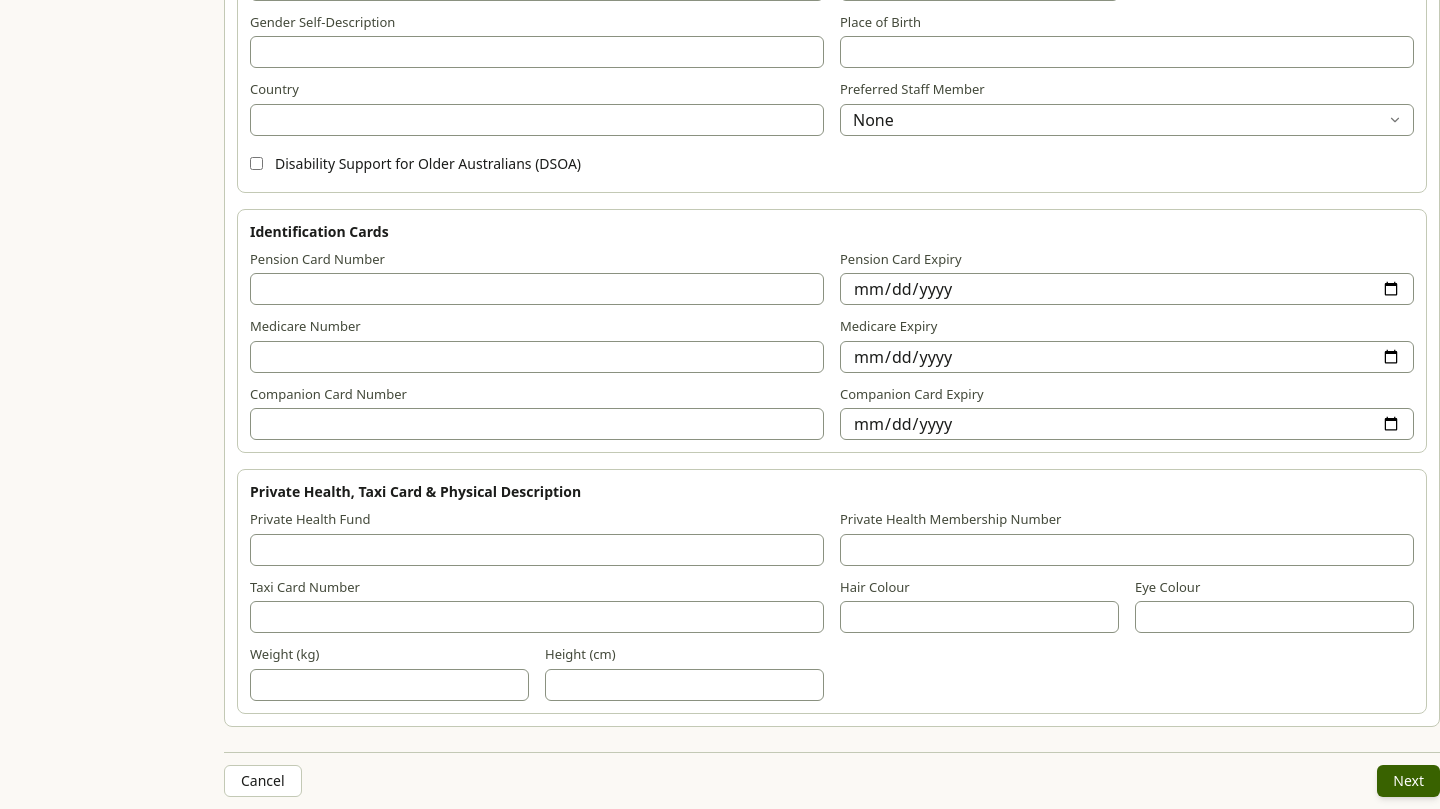
Test case: ProfileWizardPage — PP-42 unsaved changes warning › shows the "Leave without saving?" dialog when navigating away with a dirty form, and staying keeps the wizard
This screenshot has width=1440, height=809.
(page scrolled)
Type "9999999999" into the field labelled "Medicare Number" at point(537, 356), box 250,340 -> 824,372
(page scrolled)
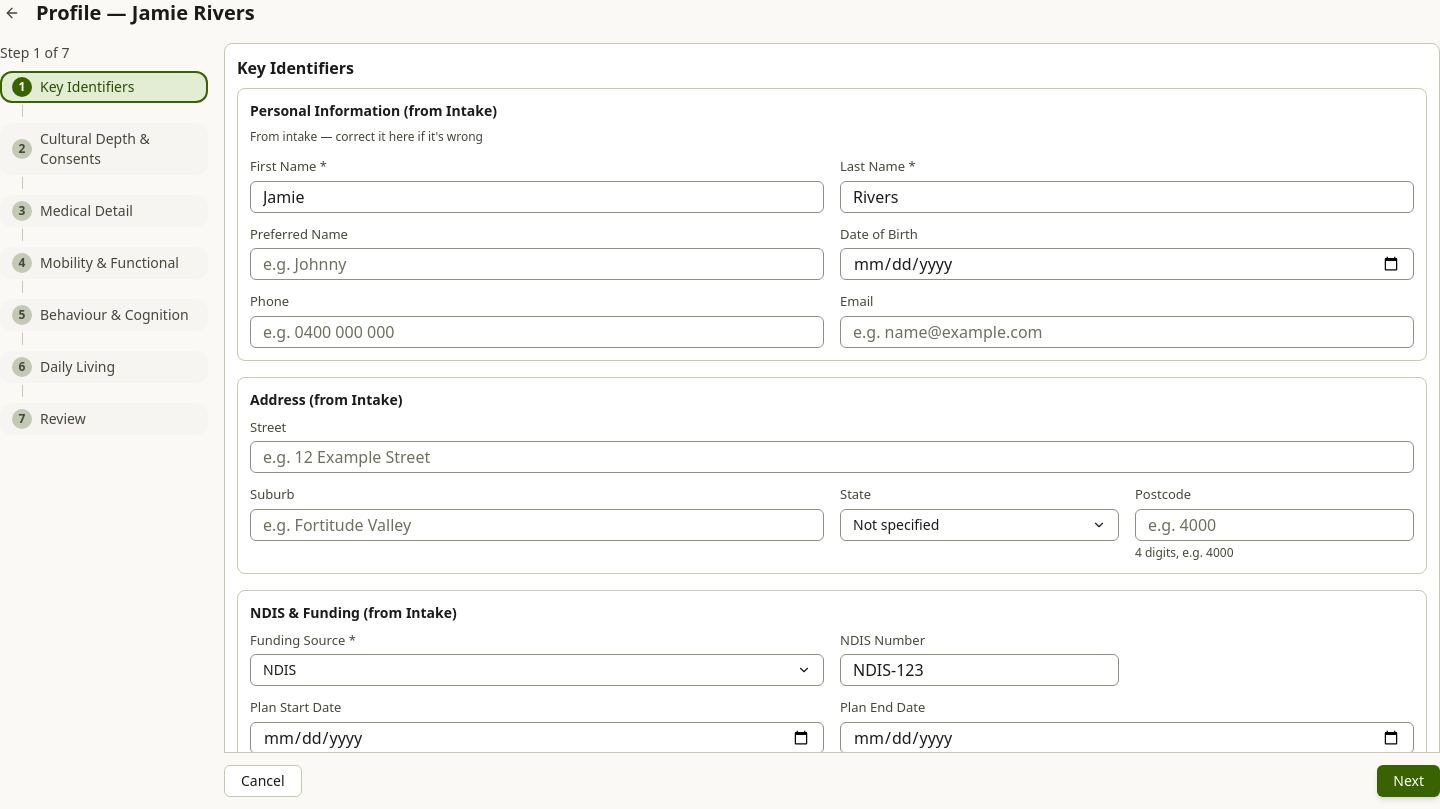
Click the link with test id "profile-header-back" at point(12, 13), box 4,5 -> 20,21
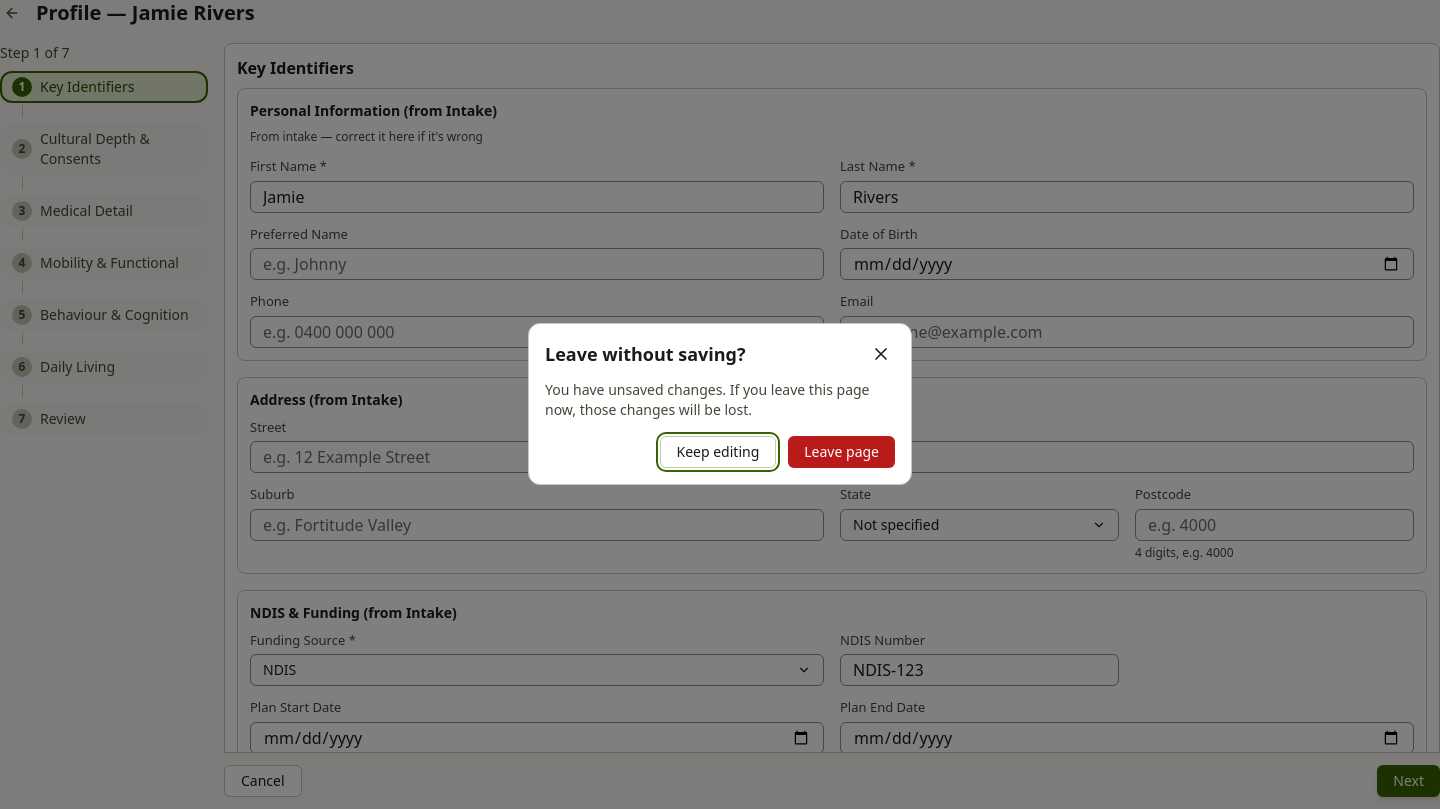
Expected: the heading "Leave without saving?" is shown, 545,340 -> 746,368
Click the button "Keep editing" at point(718, 452), box 660,436 -> 776,468
(page scrolled)
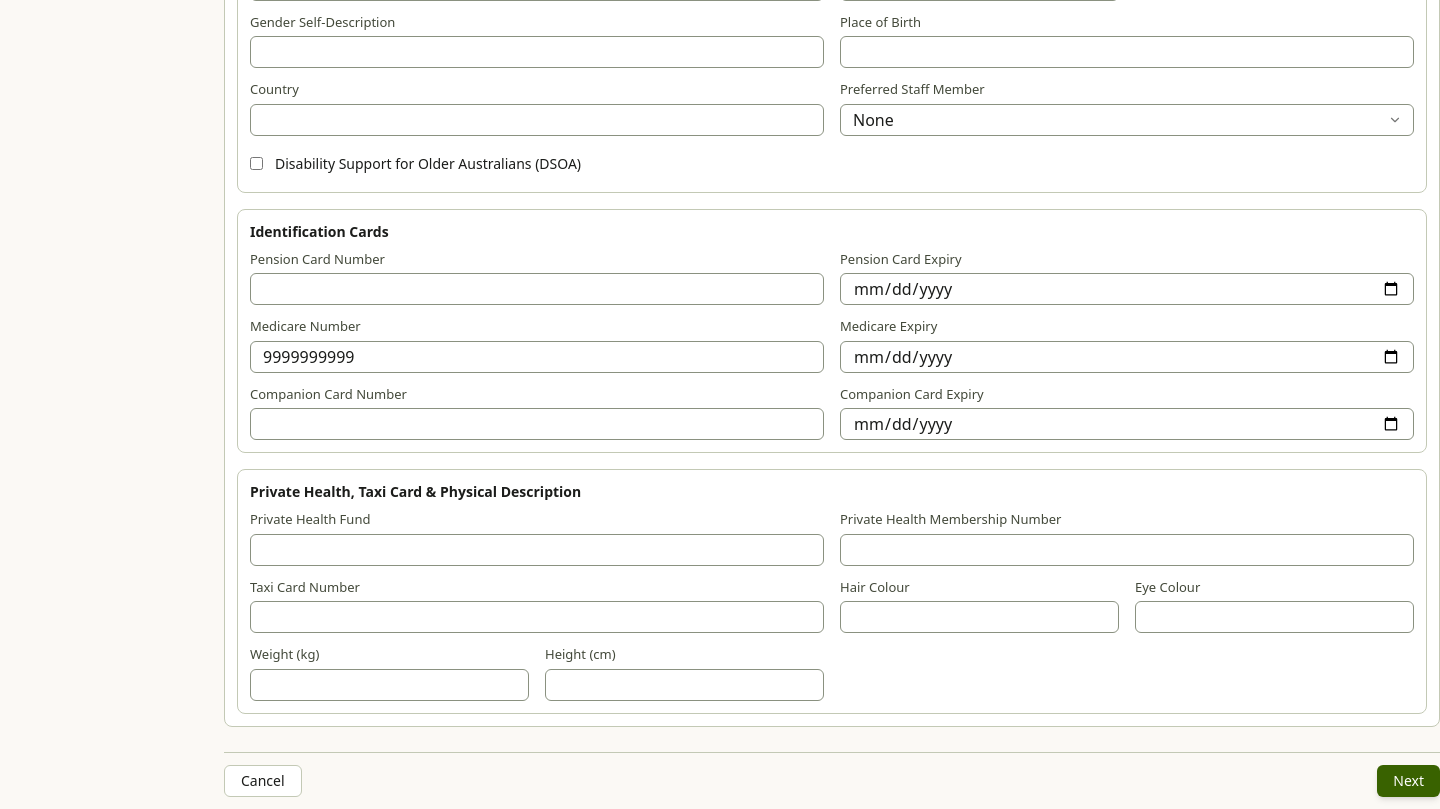
Expected: the dialog is gone
